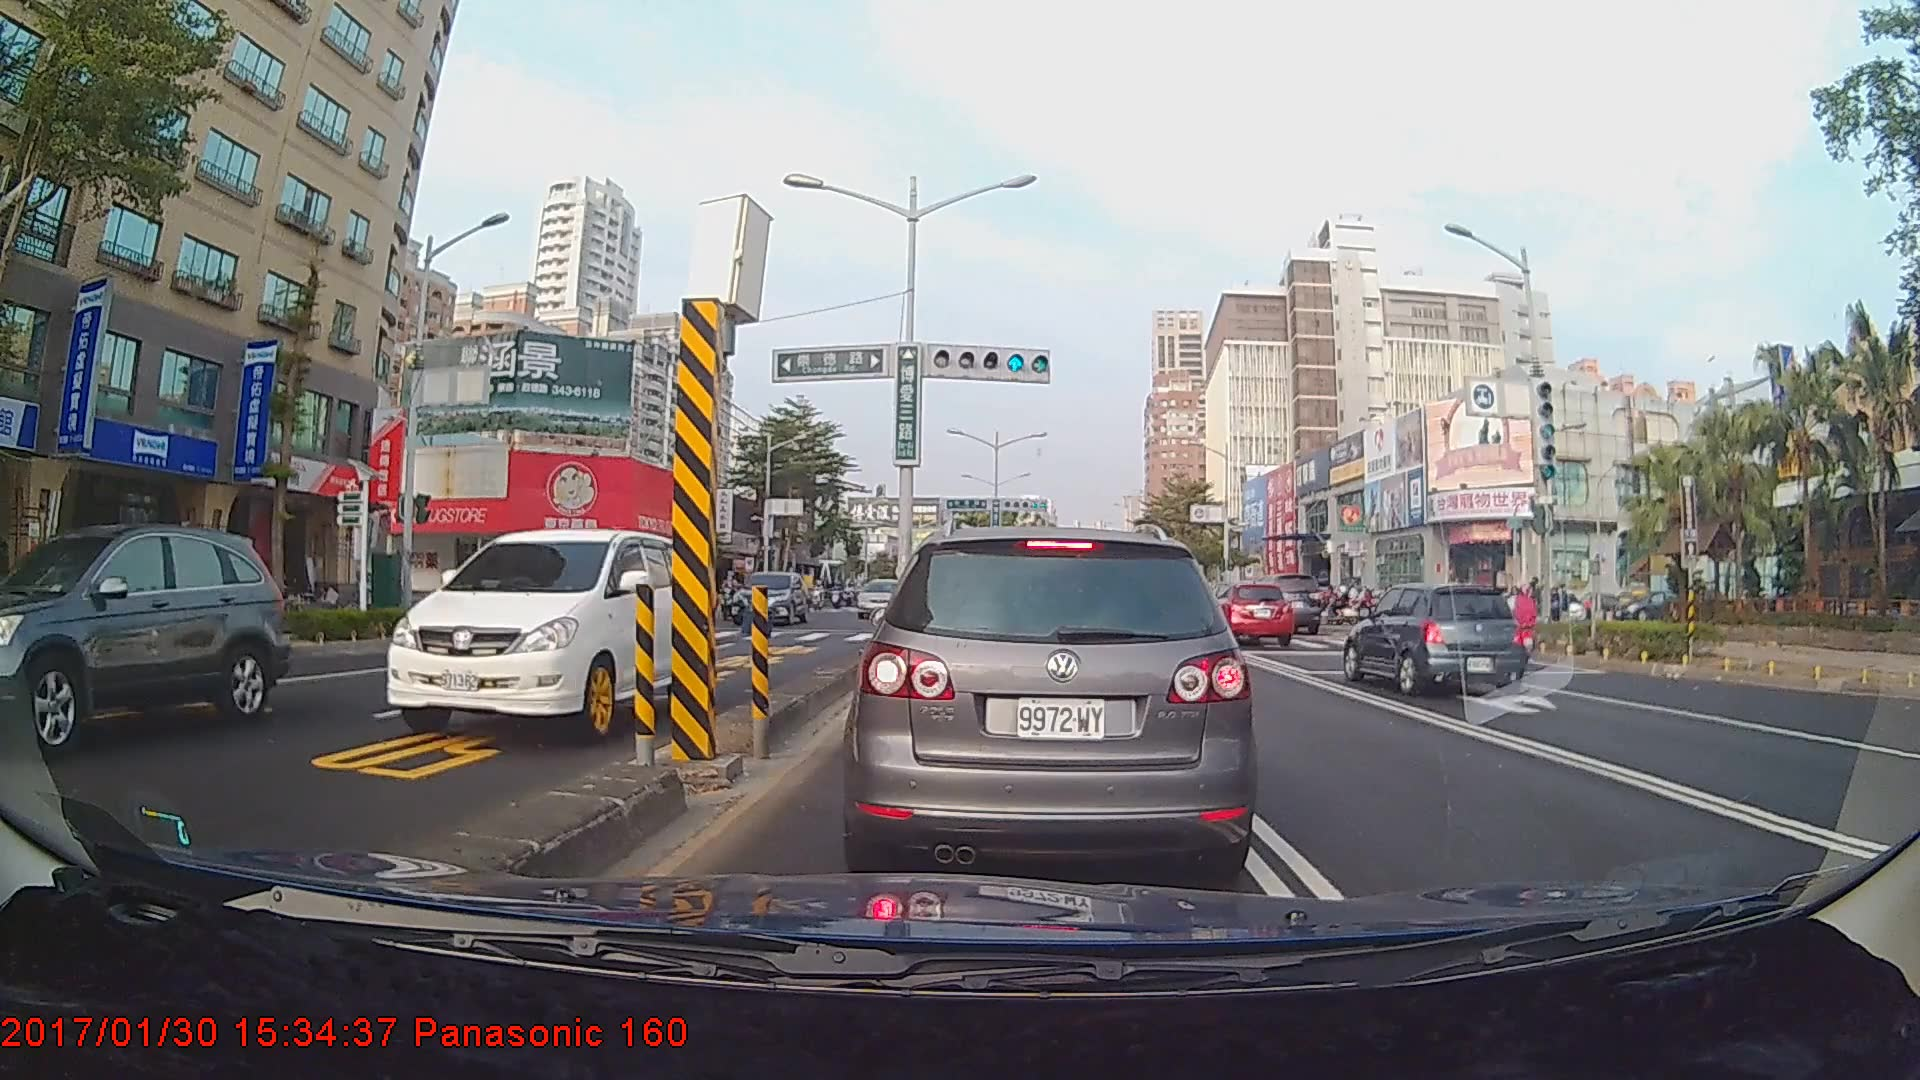vehicle: (858, 524, 1250, 880), (382, 527, 713, 742), (0, 521, 290, 760), (1342, 579, 1528, 696), (1203, 579, 1294, 646), (1237, 571, 1323, 636), (732, 571, 807, 626), (855, 578, 910, 617)
